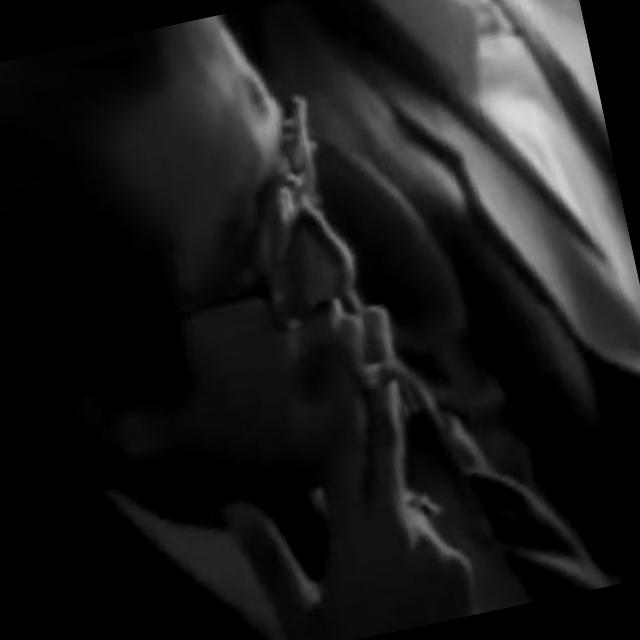cigarette: (303, 291, 427, 441)
